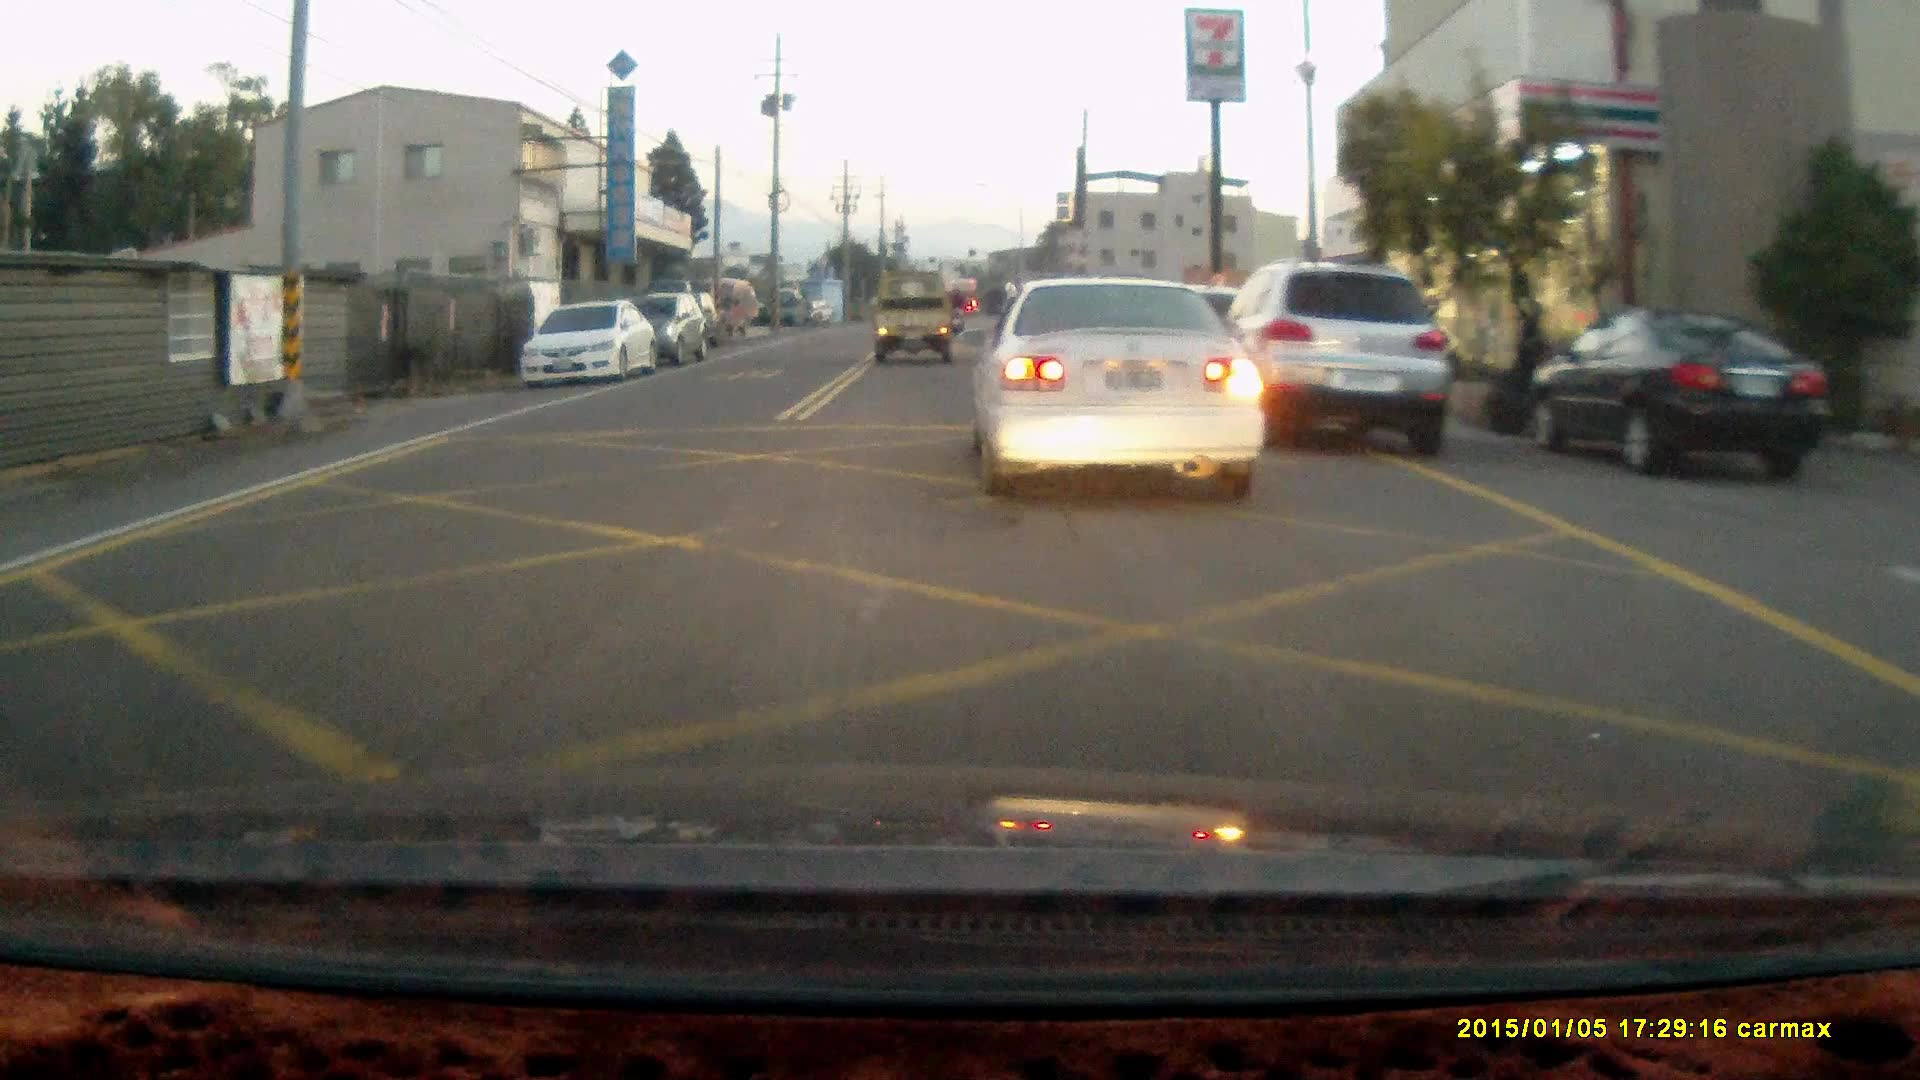rider: (1484, 300, 1584, 435), (944, 283, 970, 335)
vehicle: (970, 275, 1268, 492), (1526, 308, 1837, 477), (1213, 263, 1459, 461), (514, 294, 661, 386), (868, 272, 955, 363), (627, 295, 708, 367)
